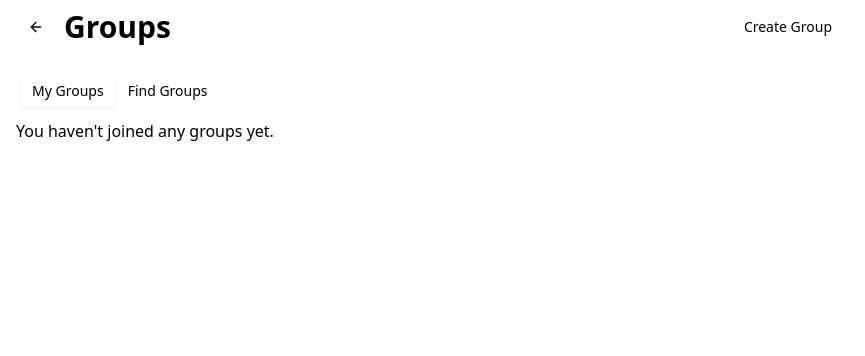
GroupsPage › debounces search in Find Groups tab
This screenshot has width=865, height=356.
Switch to Find Groups tab
Click the tab "Find Groups" at (168, 91), box x1=116 y1=75 x2=220 y2=107
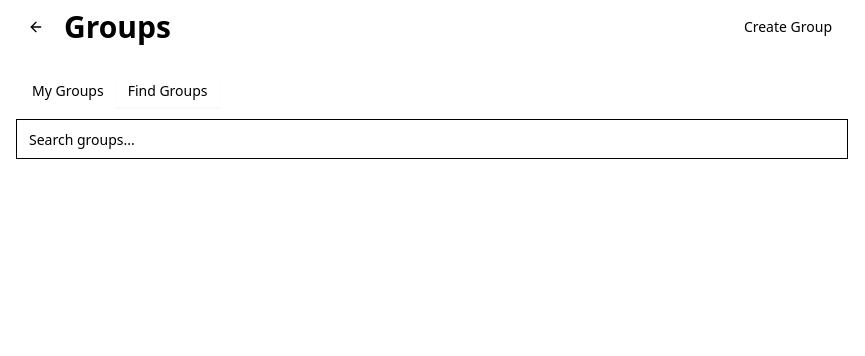
Type "te" into the field with placeholder "Search groups..." at (432, 139), box x1=16 y1=119 x2=848 y2=159
Wait 600 ms
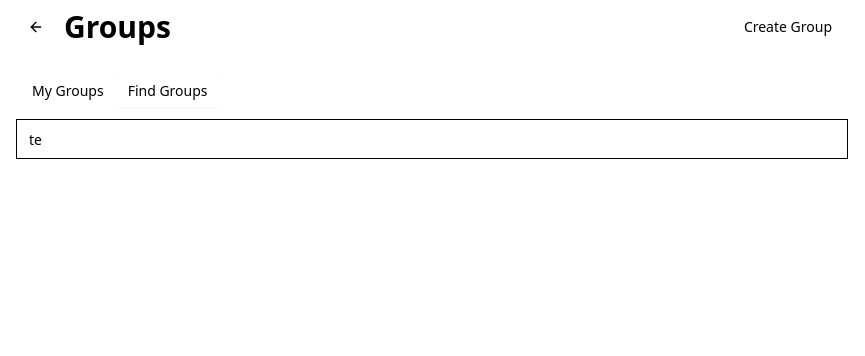
Replace the text in the field with placeholder "Search groups..." with "test" at (432, 139), box x1=16 y1=119 x2=848 y2=159
Wait 500 ms
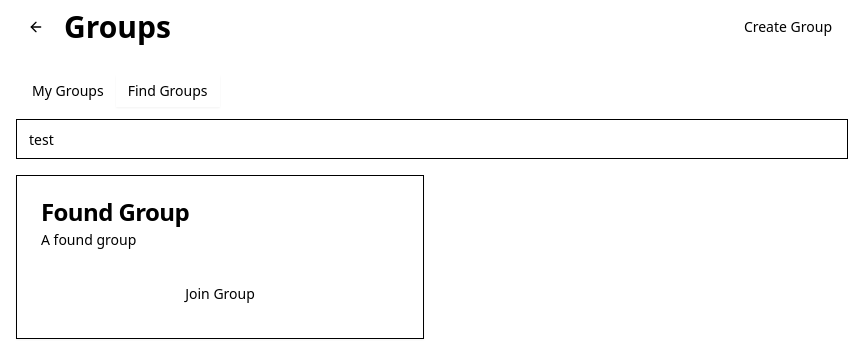
Now the text "Found Group" is shown, box x1=41 y1=195 x2=189 y2=228
